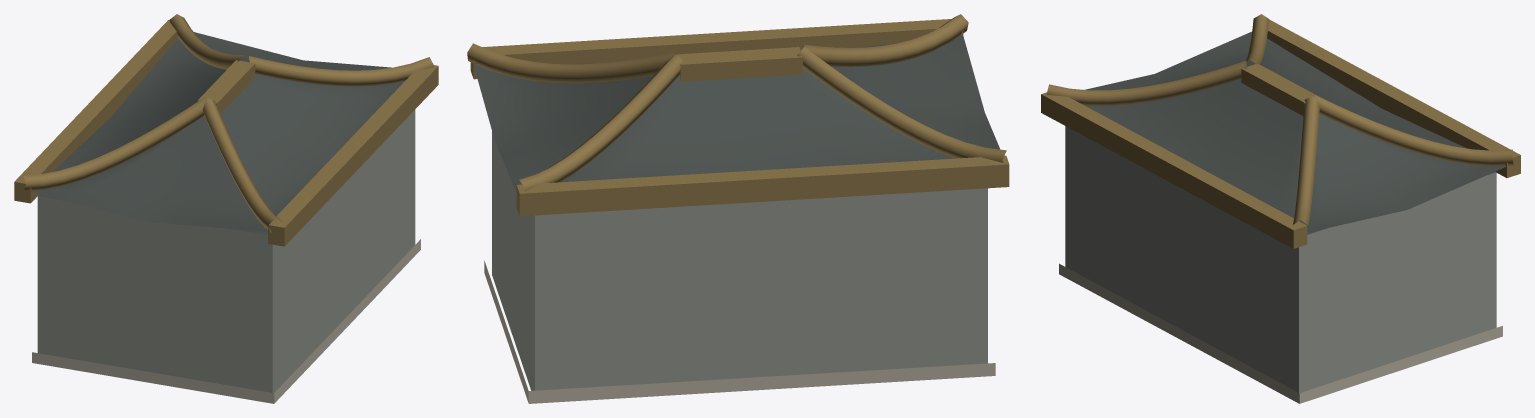
The picture shows the model from 3 angles, left to right: view 1: azimuth 30°, elevation 25°; view 2: azimuth 150°, elevation 25°; view 3: azimuth 270°, elevation 25°; orthographic projection. The views are drawn at different scales.
Bounding box in the file's own units: 0.8502 × 0.4267 × 0.8154.
